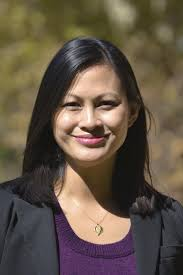asian_female: (34, 29, 158, 183)
